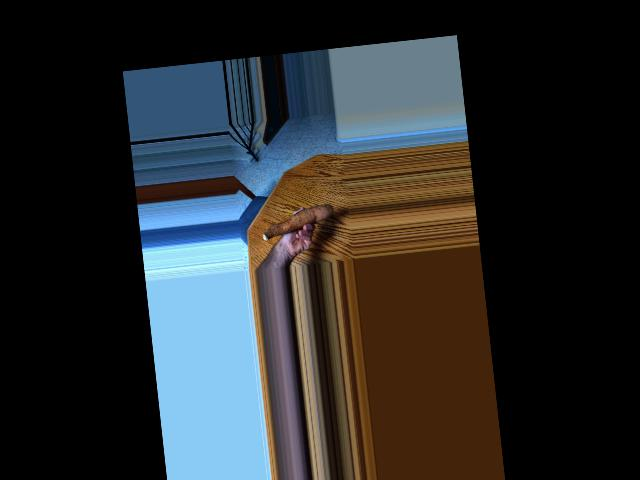sweet_potato: (260, 200, 333, 247)
